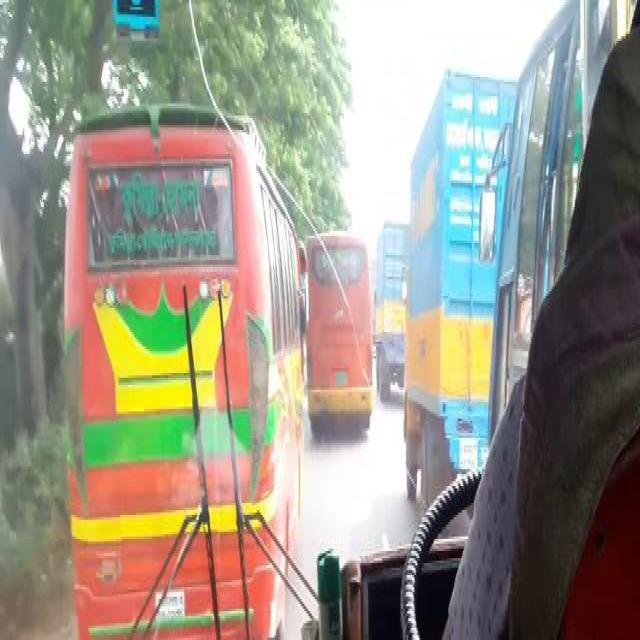bus: (61, 108, 302, 638), (492, 6, 608, 499), (306, 229, 372, 421)
pickup: (404, 67, 492, 510), (376, 218, 406, 388)
